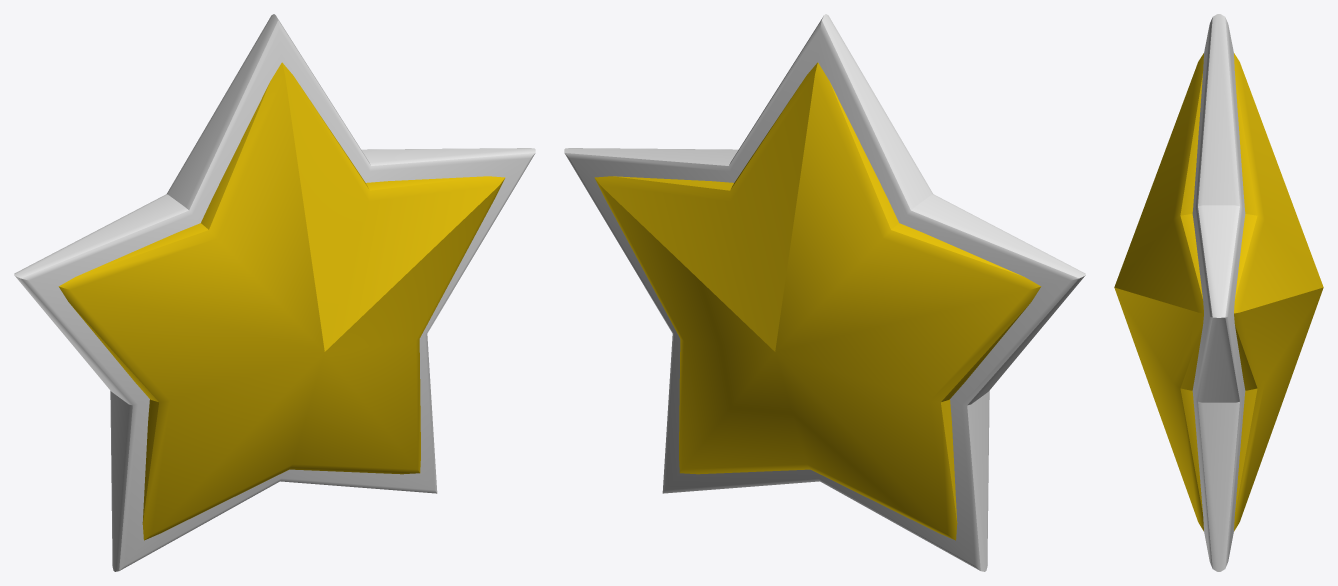
File: Star.fbx
The picture shows the model from 3 angles, left to right: view 1: azimuth 30°, elevation 25°; view 2: azimuth 150°, elevation 25°; view 3: azimuth 270°, elevation 25°; orthographic projection. The views are drawn at different scales.
Visible parts, largest first — view 1: pCylinder154, pCylinder156; view 2: pCylinder154, pCylinder156; view 3: pCylinder154, pCylinder156.
Part boxes in pixels (box(x1,y1,x2,y2)): pCylinder154: box(58, 62, 505, 540); pCylinder156: box(14, 14, 535, 571); pCylinder154: box(594, 62, 1041, 540); pCylinder156: box(564, 14, 1085, 571); pCylinder154: box(1114, 53, 1323, 531); pCylinder156: box(1192, 14, 1245, 571).
Size of the model in its own units: 2.26 by 2.15 by 0.8431.
